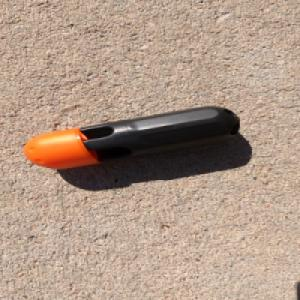PlasticPart: (22, 104, 241, 170)
